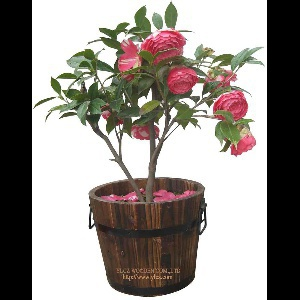flowerpot: (88, 176, 206, 297)
